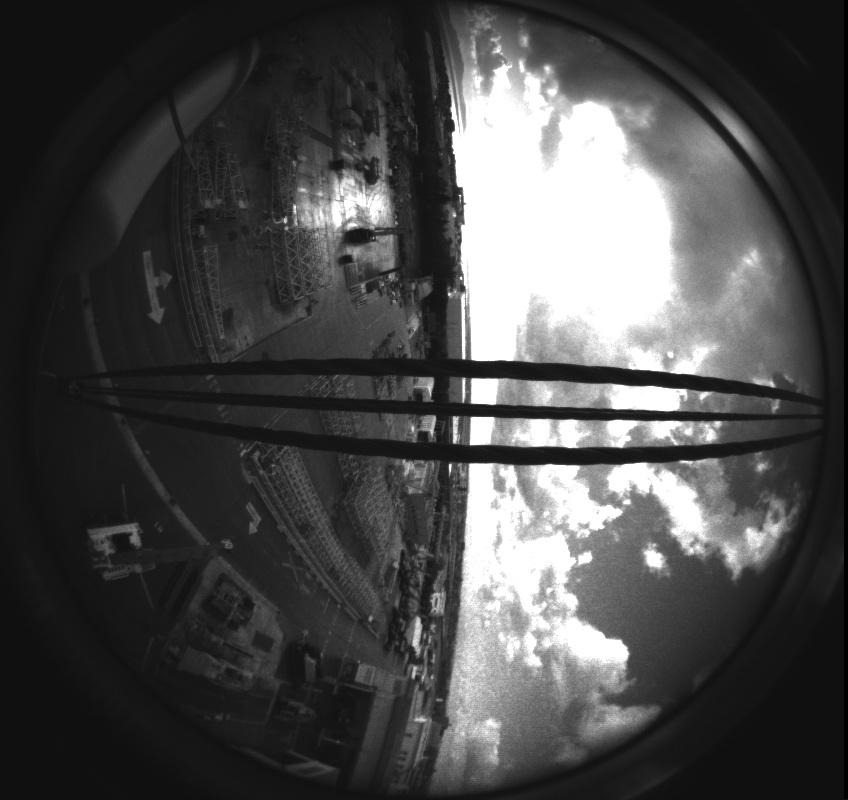rope: (4, 344, 839, 475)
